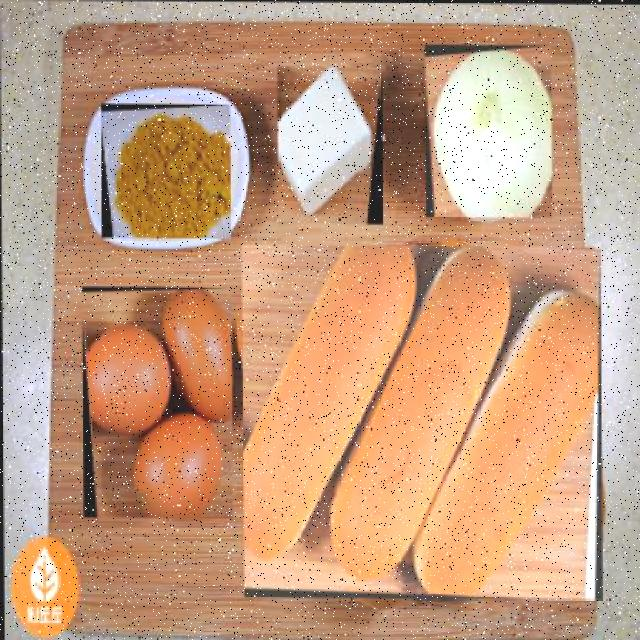Bread: (240, 245, 602, 600)
Butter: (275, 66, 383, 225)
Egg: (80, 286, 232, 520)
Onion: (423, 44, 552, 219)
